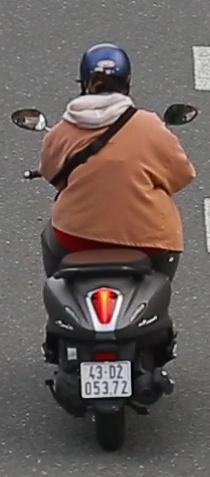LP: (78, 357, 133, 401)
helmet: (75, 38, 138, 105)
